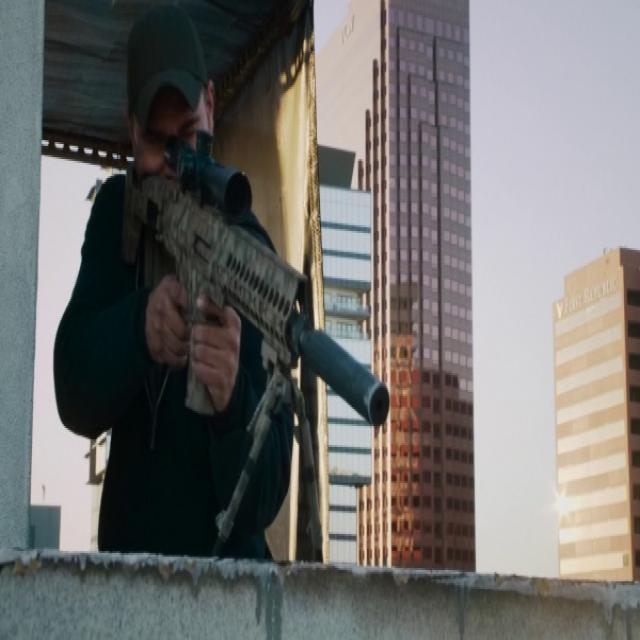rifle: (134, 122, 395, 559)
